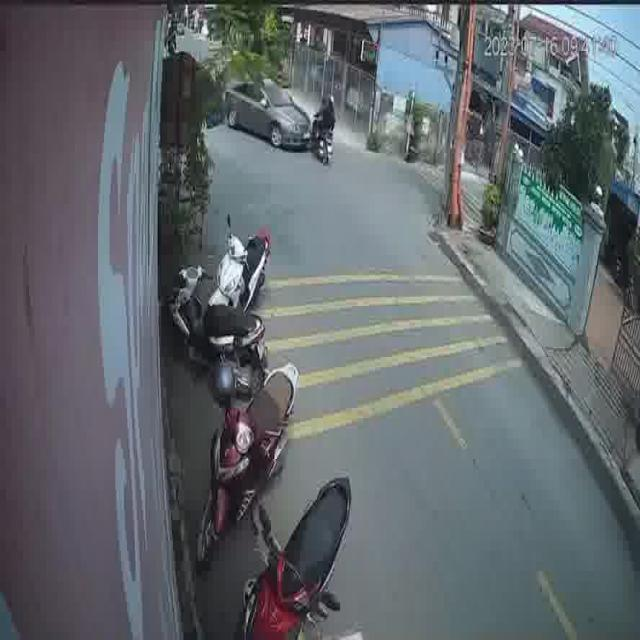multiple_accident: (222, 63, 339, 173)
